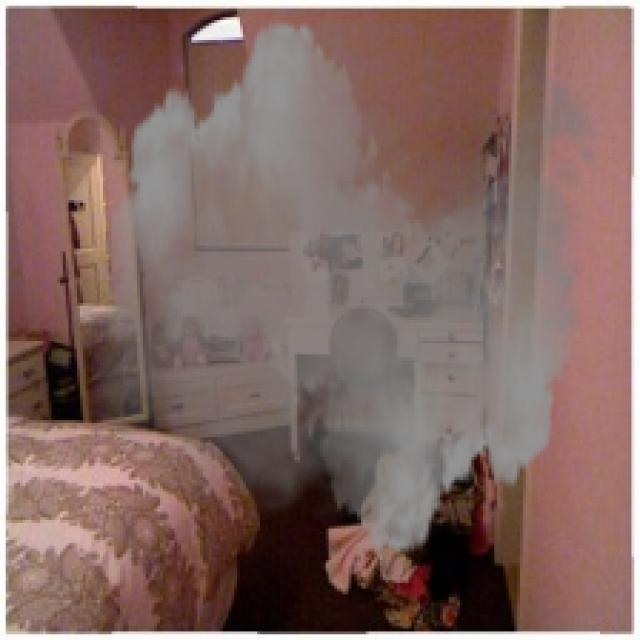Smoke: (80, 2, 617, 572)
